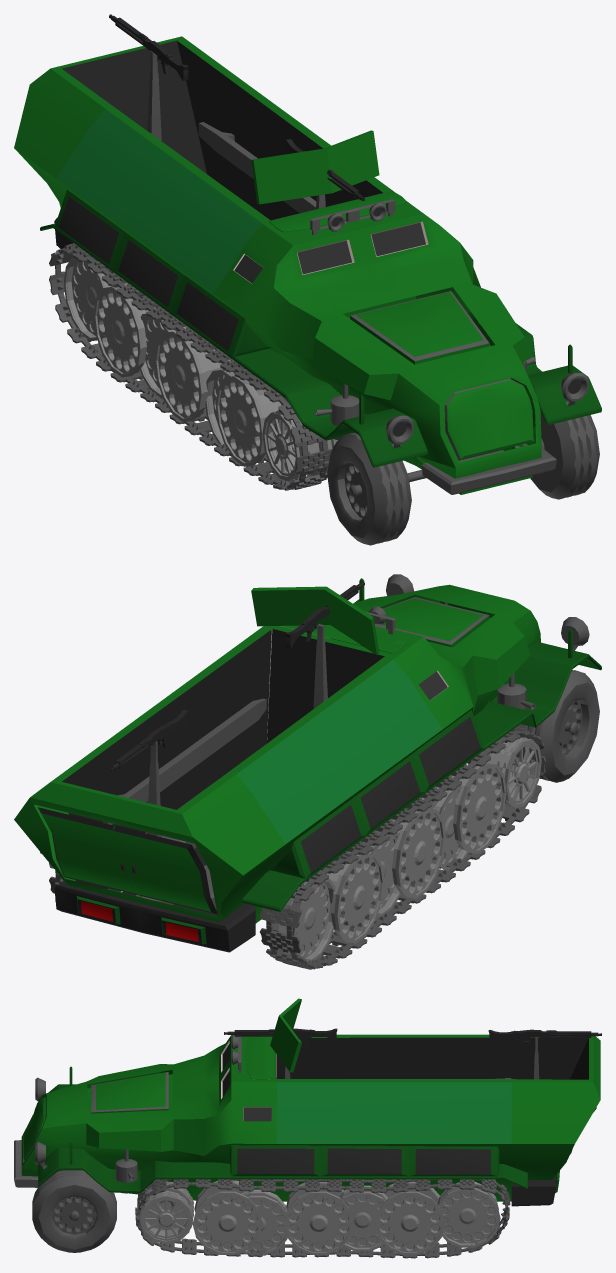
File: soukou.fbx
3 renders of one model, top to bottom at view 1: azimuth 30°, elevation 25°; view 2: azimuth 150°, elevation 25°; view 3: azimuth 270°, elevation 25°, orthographic. The views are drawn at different scales.
Visible parts, largest first — view 1: body_sdkf; view 2: body_sdkf; view 3: body_sdkf.
Part boxes in pixels (<box>): body_sdkf: <box>14,14,601,545</box>; body_sdkf: <box>14,574,601,969</box>; body_sdkf: <box>14,998,601,1258</box>.
Size of the model in its own units: 422 by 425 by 1136.
